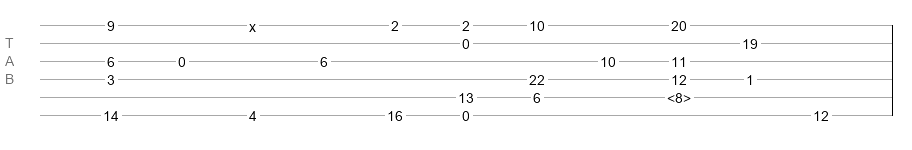0: (178, 54, 186, 64), (462, 36, 470, 46), (462, 108, 470, 118)
1: (746, 72, 754, 82)
10: (529, 18, 545, 28), (600, 54, 616, 64)
11: (671, 54, 687, 64)
12: (671, 72, 687, 82), (813, 108, 829, 118)
13: (458, 90, 474, 100)
14: (103, 108, 119, 118)
16: (387, 108, 403, 118)
19: (742, 36, 758, 46)
2: (391, 18, 399, 28), (462, 18, 470, 28)
20: (671, 18, 687, 28)
22: (529, 72, 545, 82)
3: (107, 72, 115, 82)
4: (249, 108, 257, 118)
6: (107, 54, 115, 64), (320, 54, 328, 64), (533, 90, 541, 100)
9: (107, 18, 115, 28)
harmonic: (667, 90, 691, 100)
x: (249, 19, 256, 27)
